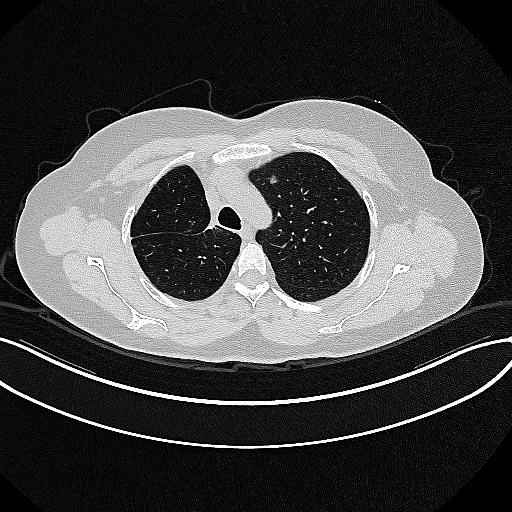nodule: (269, 174, 277, 184)
